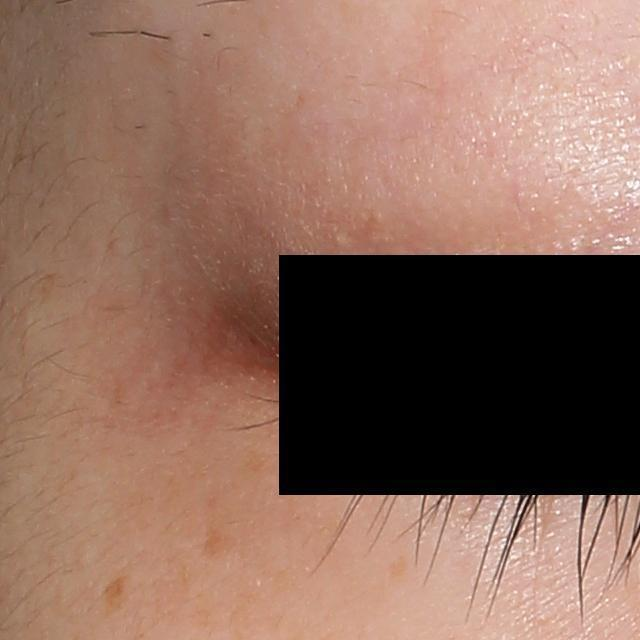melasma: (202, 492, 267, 567), (102, 568, 126, 618), (387, 553, 409, 583)
